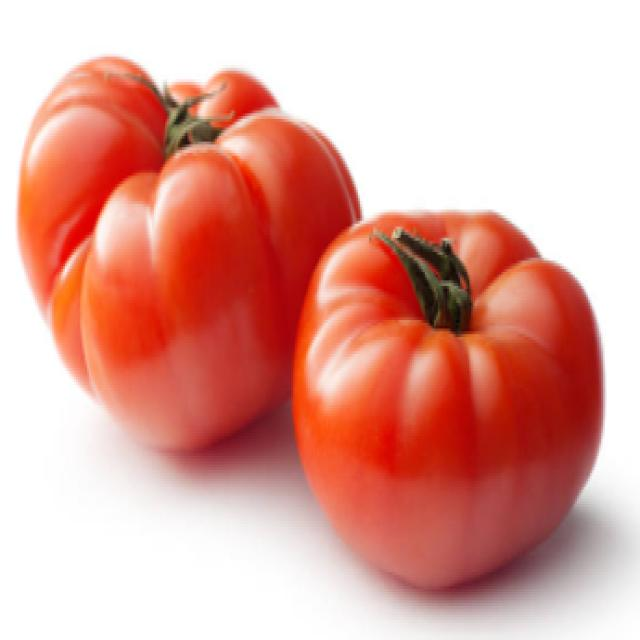Tomato: (12, 53, 367, 457), (302, 186, 602, 599)
